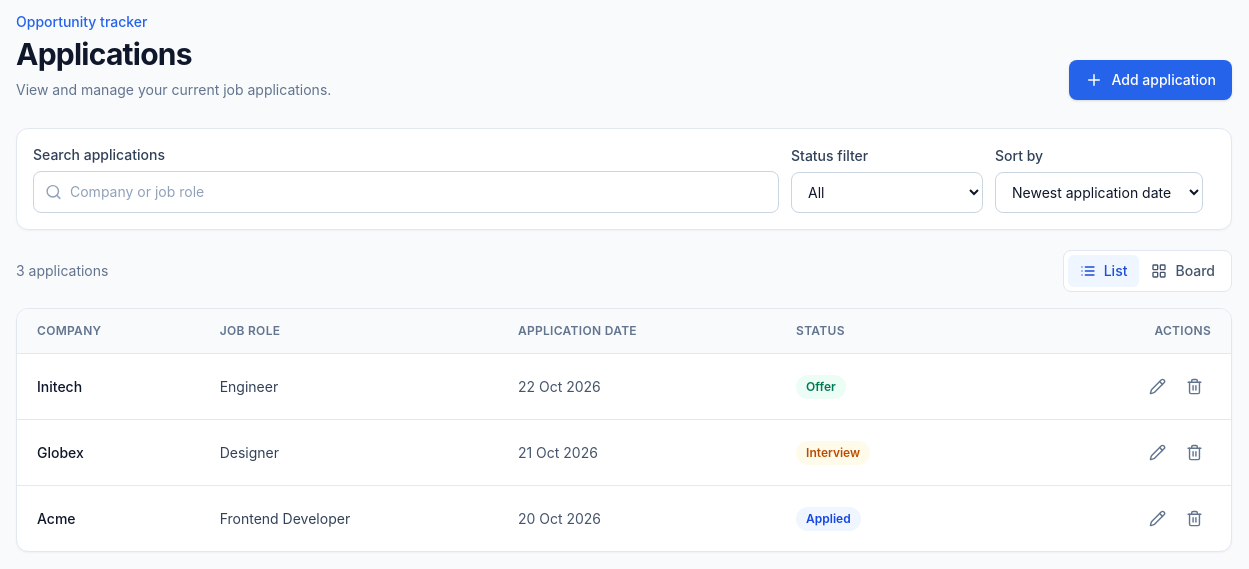
Scenario: Applications page › searches company and role names without case sensitivity
In the search field labelled "Search applications": (406, 192) [33,171,779,213], type "fRoNtEnD"
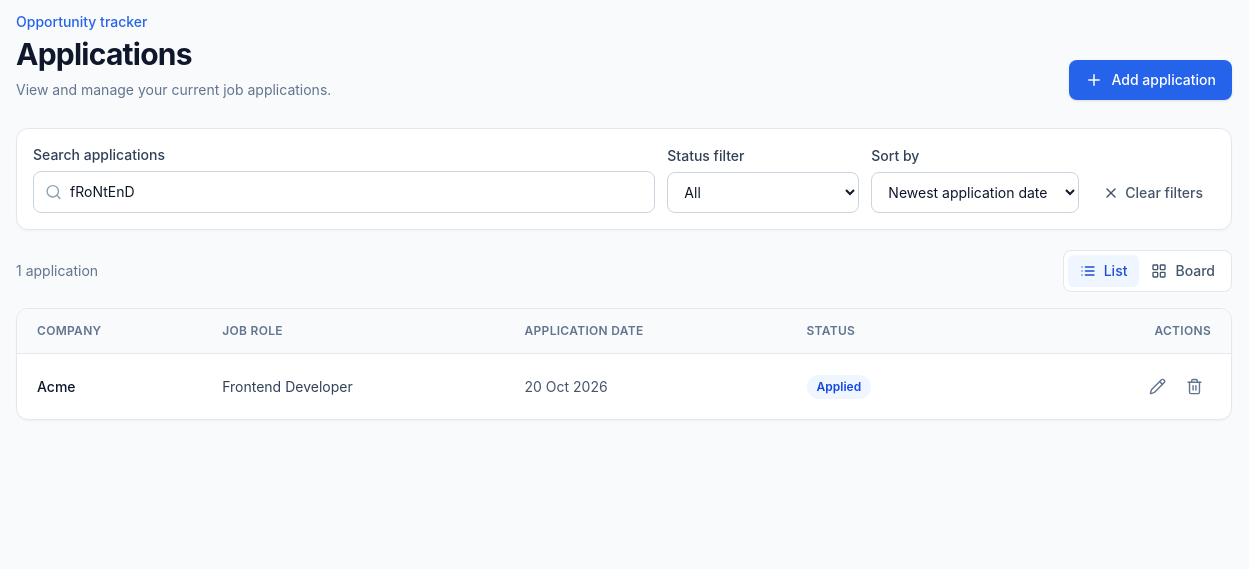
Check: the text "Acme" is shown 2 times
Check: the text "Globex" is gone
Check: the text "1 application" is shown, box [16,261,98,281]
